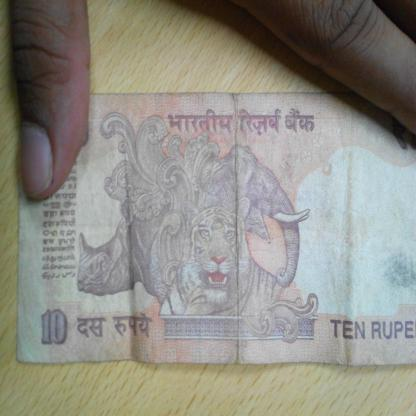Old10Back: (17, 91, 415, 365)
